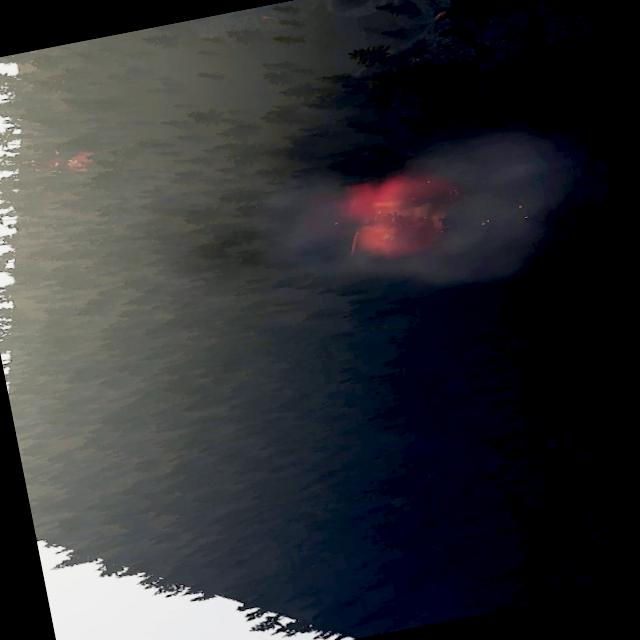fire: (337, 168, 446, 258), (48, 145, 98, 175)
smoke: (260, 104, 624, 320)
